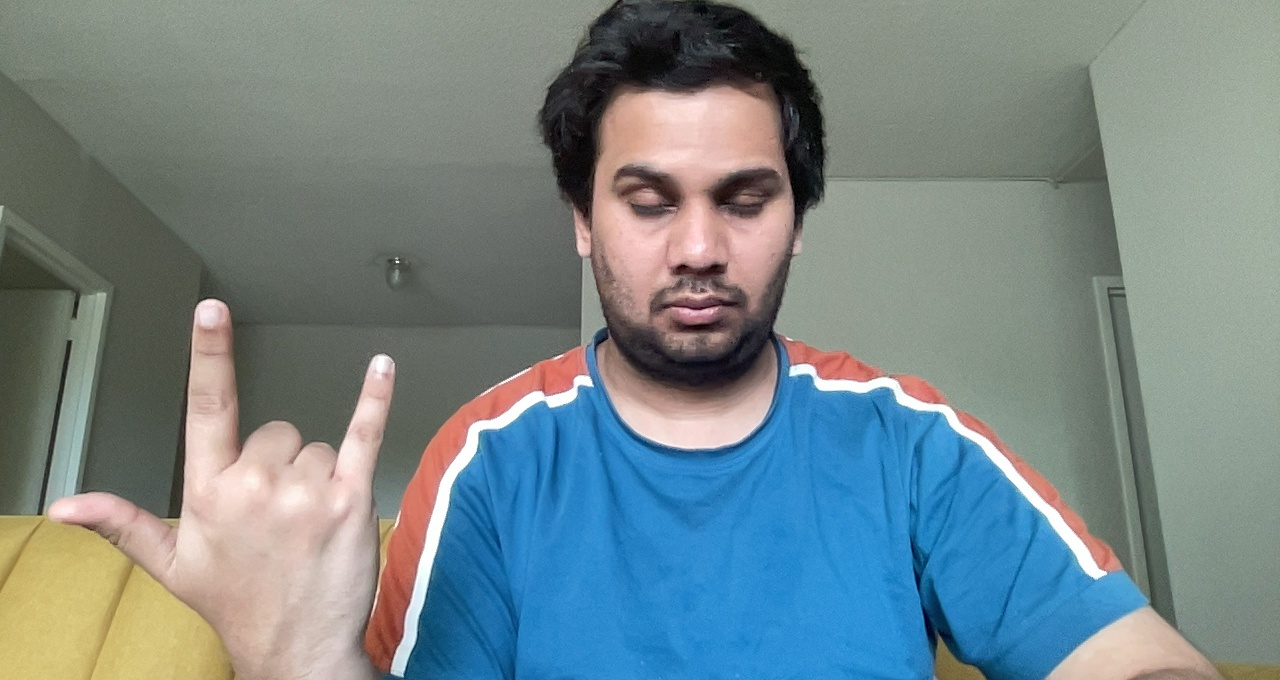rockon sign: (40, 286, 399, 655)
